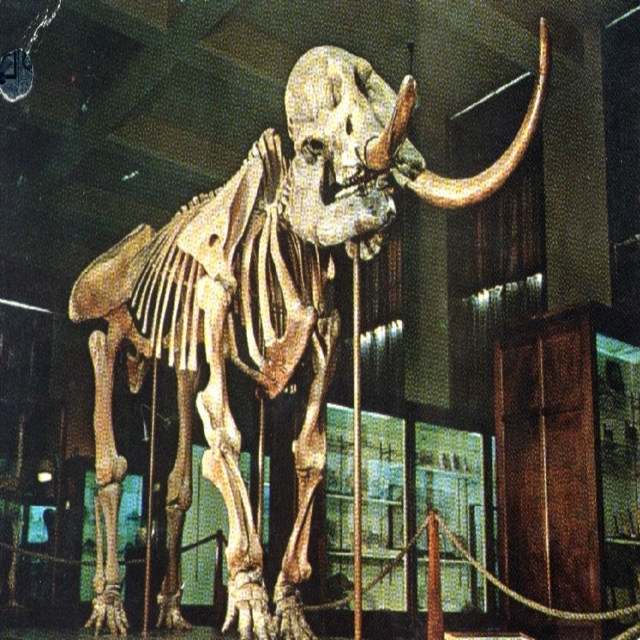Elephant: (65, 17, 546, 639)
